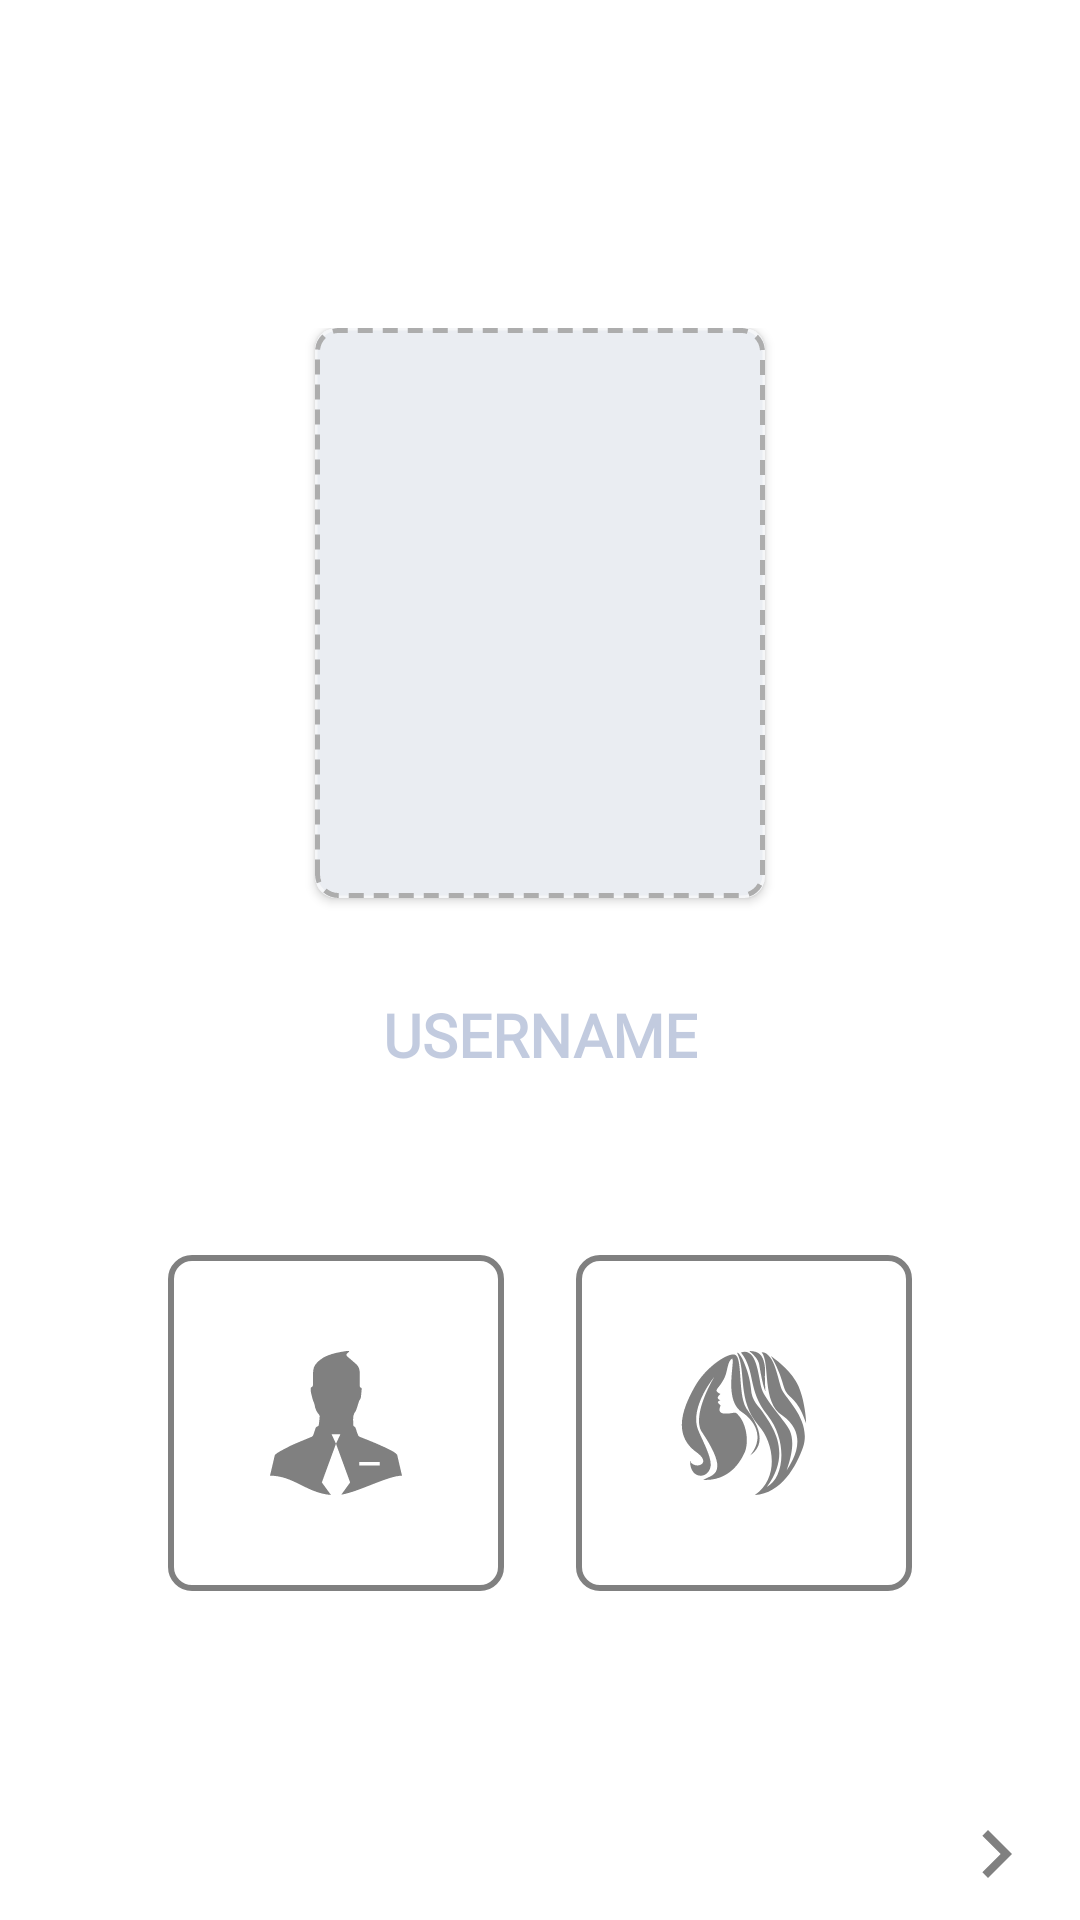

Screen size 1080×1920. Icon name, then its center in pixels as point (x, y):
female: point (743, 1423)
male: point (336, 1423)
